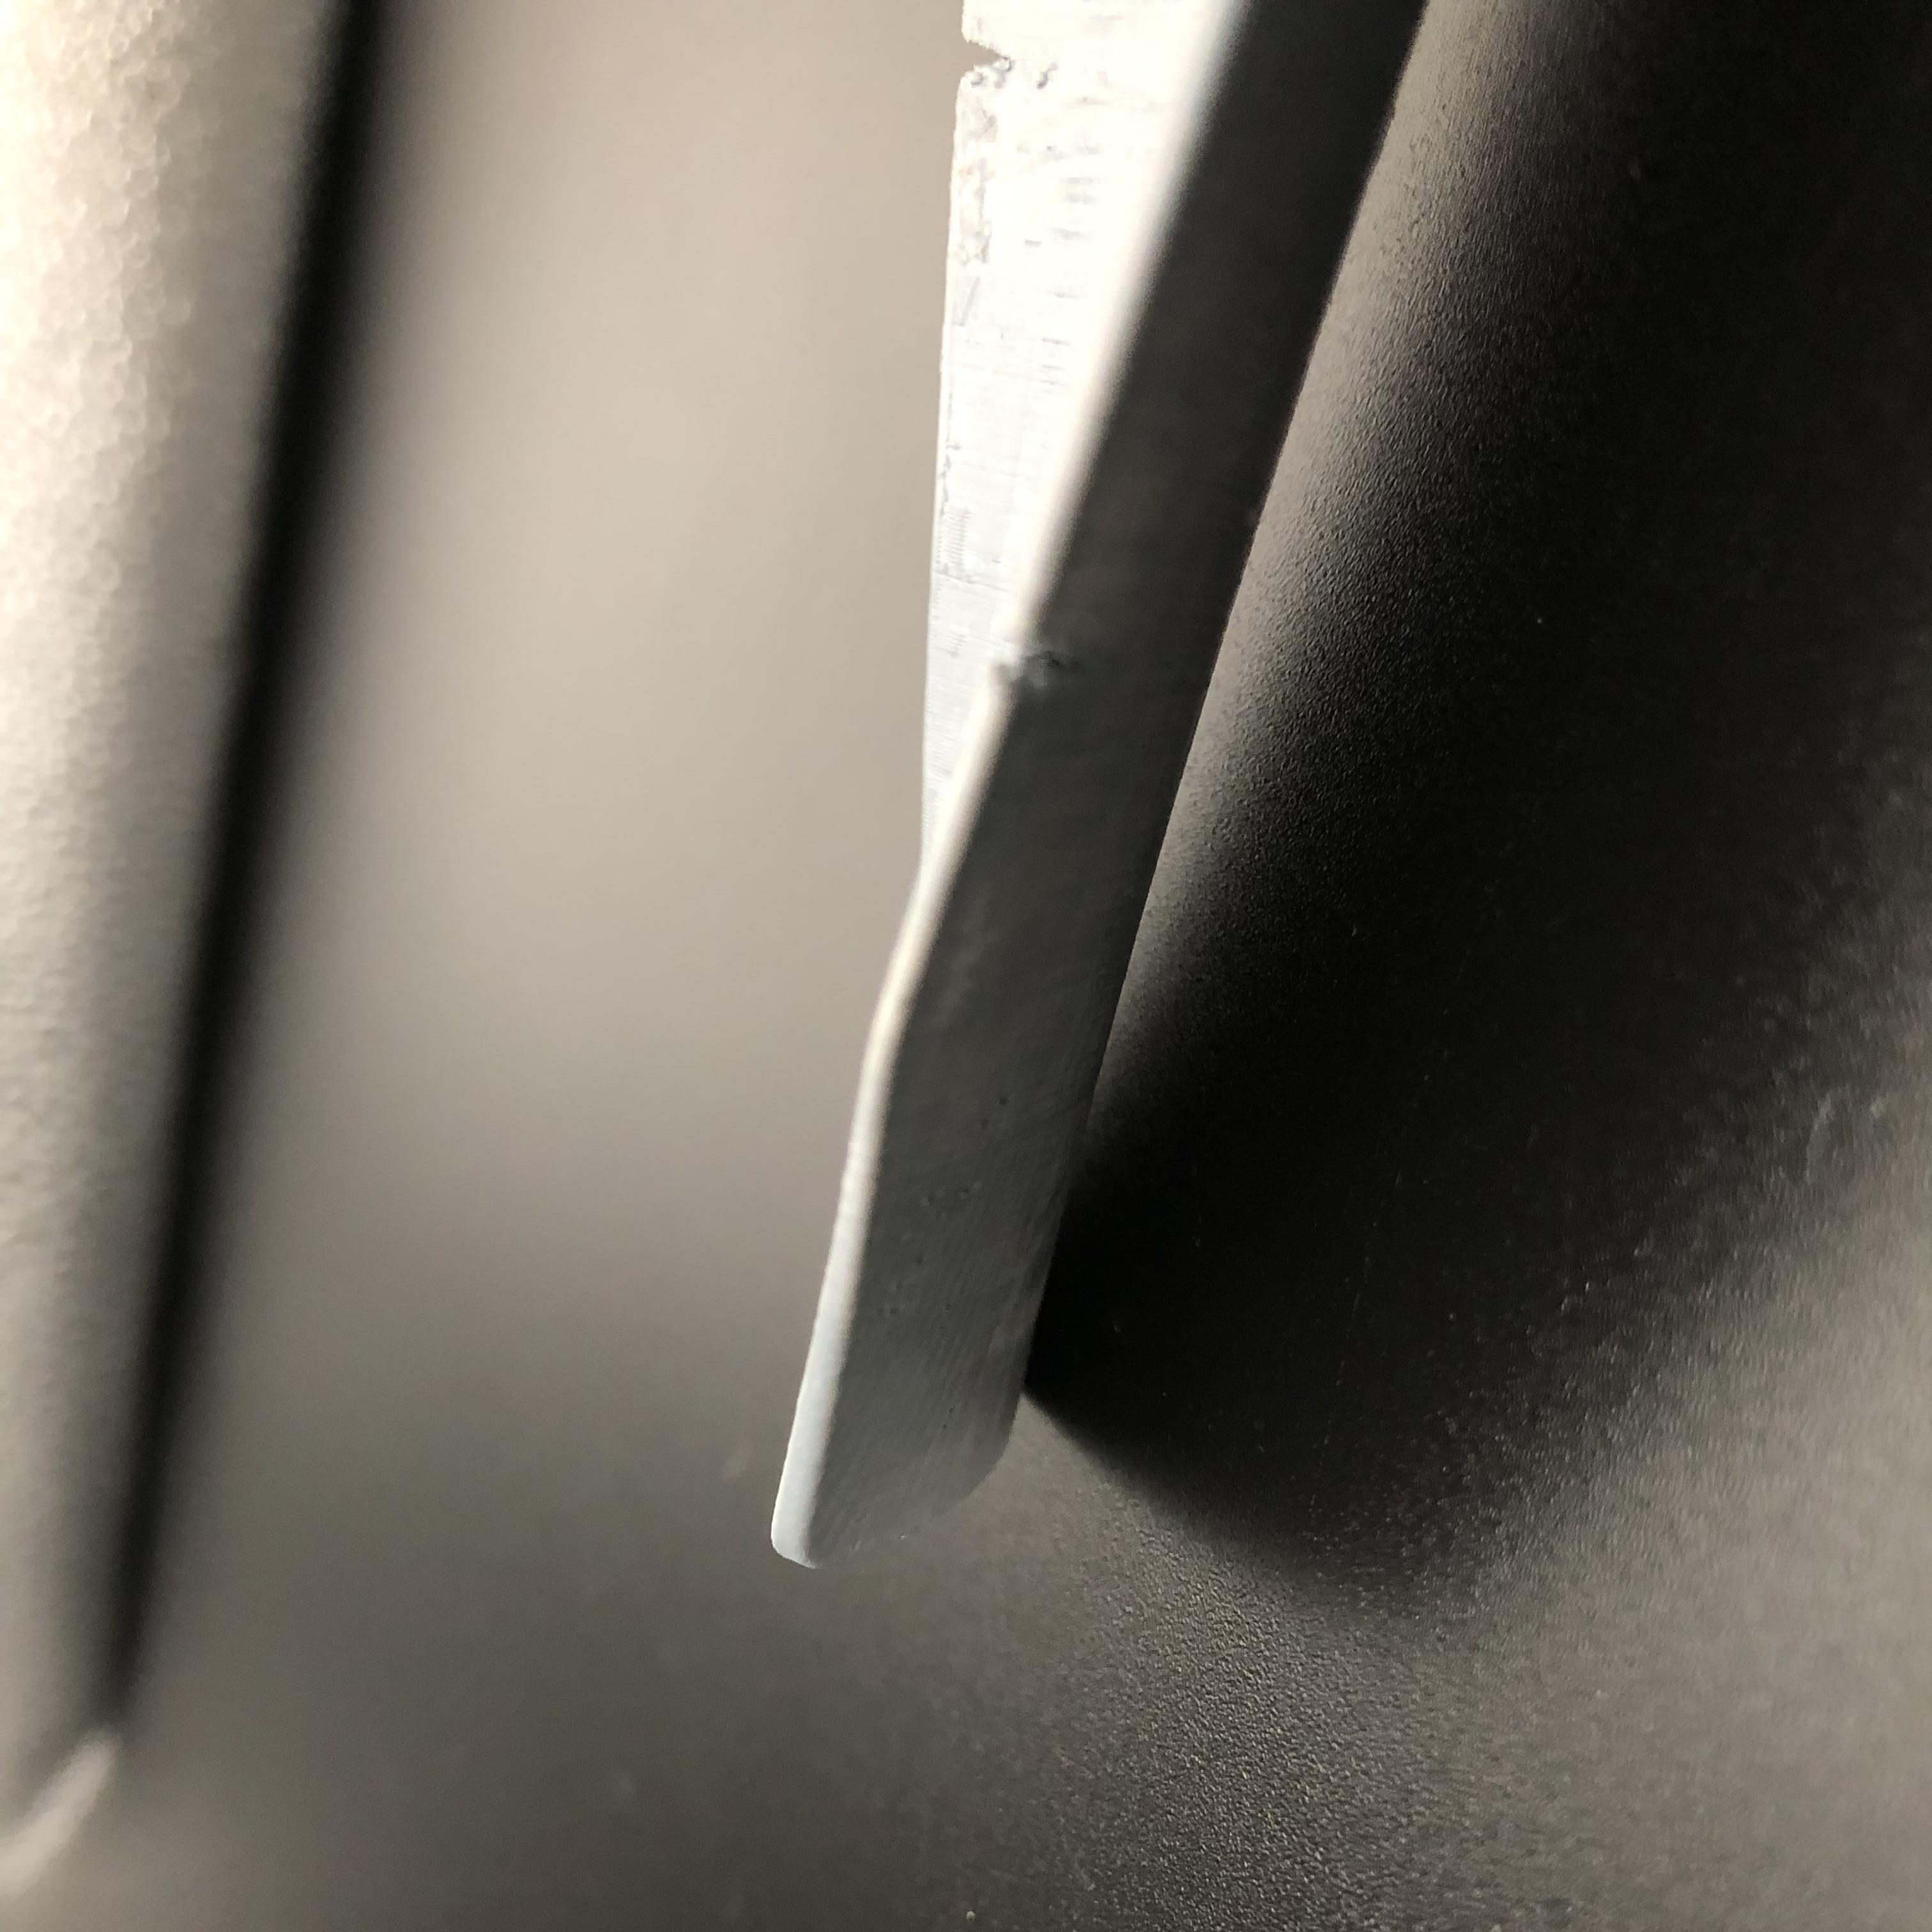groove: (993, 621, 1125, 708), (950, 25, 1021, 94)
